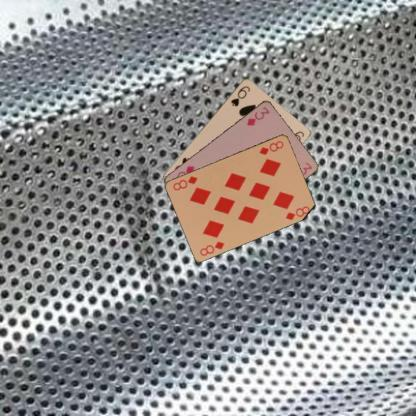3d: (244, 104, 270, 127)
6s: (228, 83, 251, 108)
8d: (256, 138, 285, 156), (198, 239, 226, 257)
